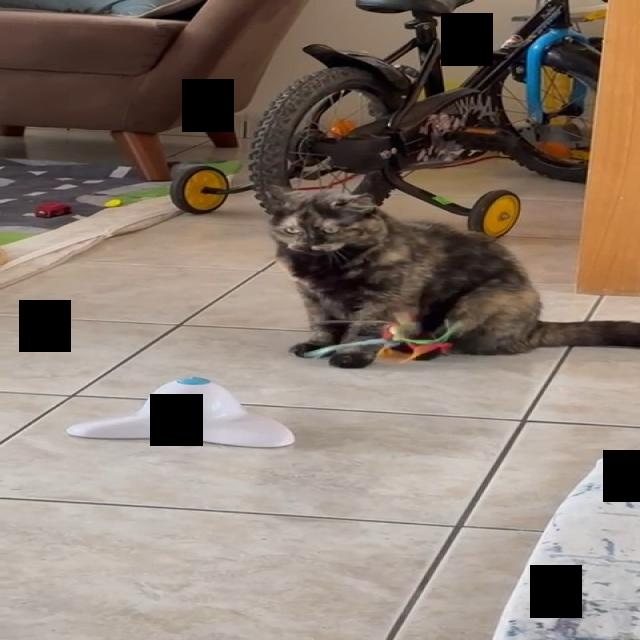authorized: (264, 184, 639, 365)
